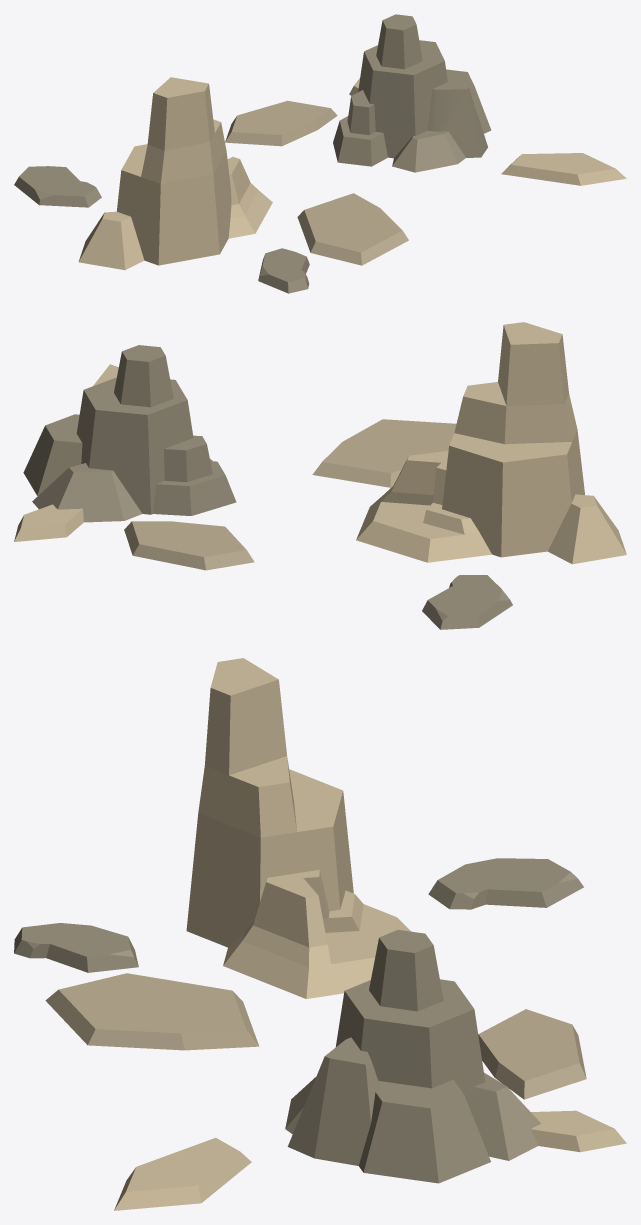
Rendered from ridge-rubble-set.glb.
The picture shows the model from 3 angles, top to bottom: view 1: azimuth 30°, elevation 25°; view 2: azimuth 150°, elevation 25°; view 3: azimuth 270°, elevation 25°; orthographic projection. The views are drawn at different scales.
Parts seen in each view (by area): view 1: ridge_stone_00_00, ridge_stone_02_00, ridge_chip_04_00, ridge_chip_10_00, ridge_chip_06_00, ridge_chip_08_00, ridge_chip_14_00; view 2: ridge_stone_00_00, ridge_stone_02_00, ridge_chip_04_00, ridge_chip_10_00, ridge_chip_08_00, ridge_chip_12_00; view 3: ridge_stone_00_00, ridge_stone_02_00, ridge_chip_04_00, ridge_chip_10_00, ridge_chip_08_00, ridge_chip_06_00, ridge_chip_14_00, ridge_chip_12_00.
Boxes of the visible parts, x1,y1,x2,y2 form: ridge_stone_00_00: (78,77,272,270); ridge_stone_02_00: (333,14,491,172); ridge_chip_04_00: (297,193,408,265); ridge_chip_10_00: (225,100,337,146); ridge_chip_06_00: (501,153,626,185); ridge_chip_08_00: (14,166,101,207); ridge_chip_14_00: (258,248,309,293); ridge_stone_00_00: (356,322,626,564); ridge_stone_02_00: (23,345,236,522); ridge_chip_04_00: (312,419,456,487); ridge_chip_10_00: (124,521,254,570); ridge_chip_08_00: (422,575,512,629); ridge_chip_12_00: (14,504,83,541); ridge_stone_00_00: (186,658,410,998); ridge_stone_02_00: (285,929,540,1183); ridge_chip_04_00: (45,973,259,1050); ridge_chip_10_00: (478,1009,586,1099); ridge_chip_08_00: (428,858,583,909); ridge_chip_06_00: (114,1137,251,1210); ridge_chip_14_00: (14,923,138,972); ridge_chip_12_00: (530,1110,626,1152).
Size of the model in its own units: 3.74 by 1.15 by 2.67.
